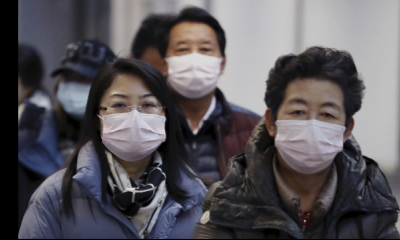with_mask: (272, 94, 349, 171), (99, 88, 165, 162), (164, 36, 222, 101), (55, 75, 92, 119)
